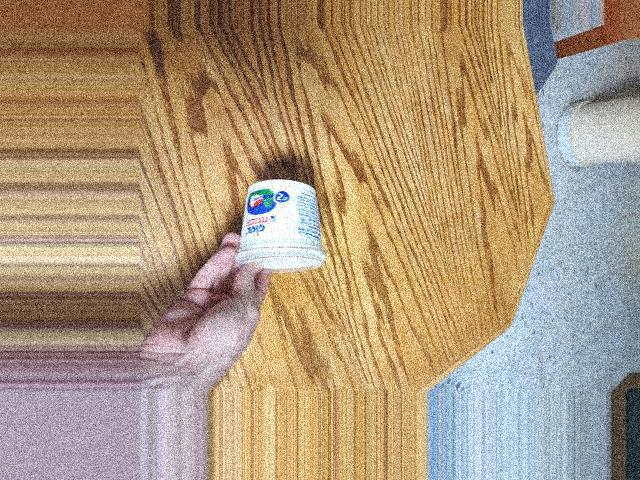cotage: (218, 179, 334, 288)
